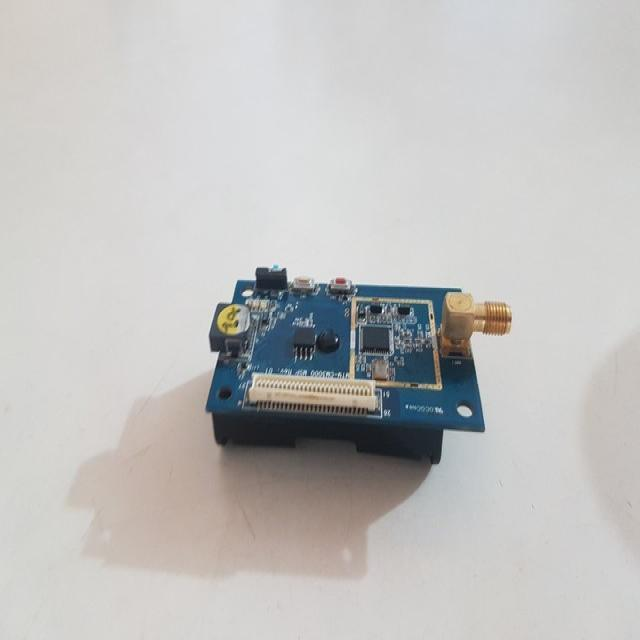TelosB: (206, 266, 512, 464)
